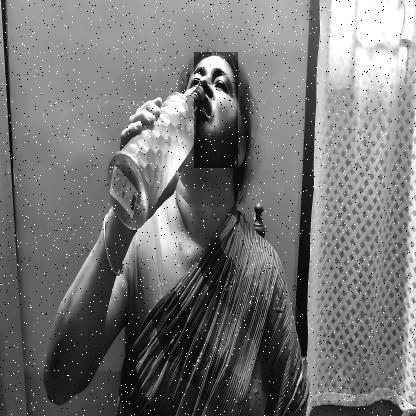Distracted: (194, 52, 238, 168)
